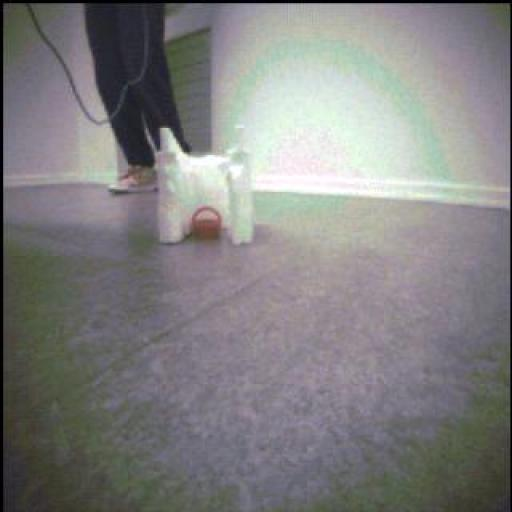Bucket: (191, 205, 222, 245)
